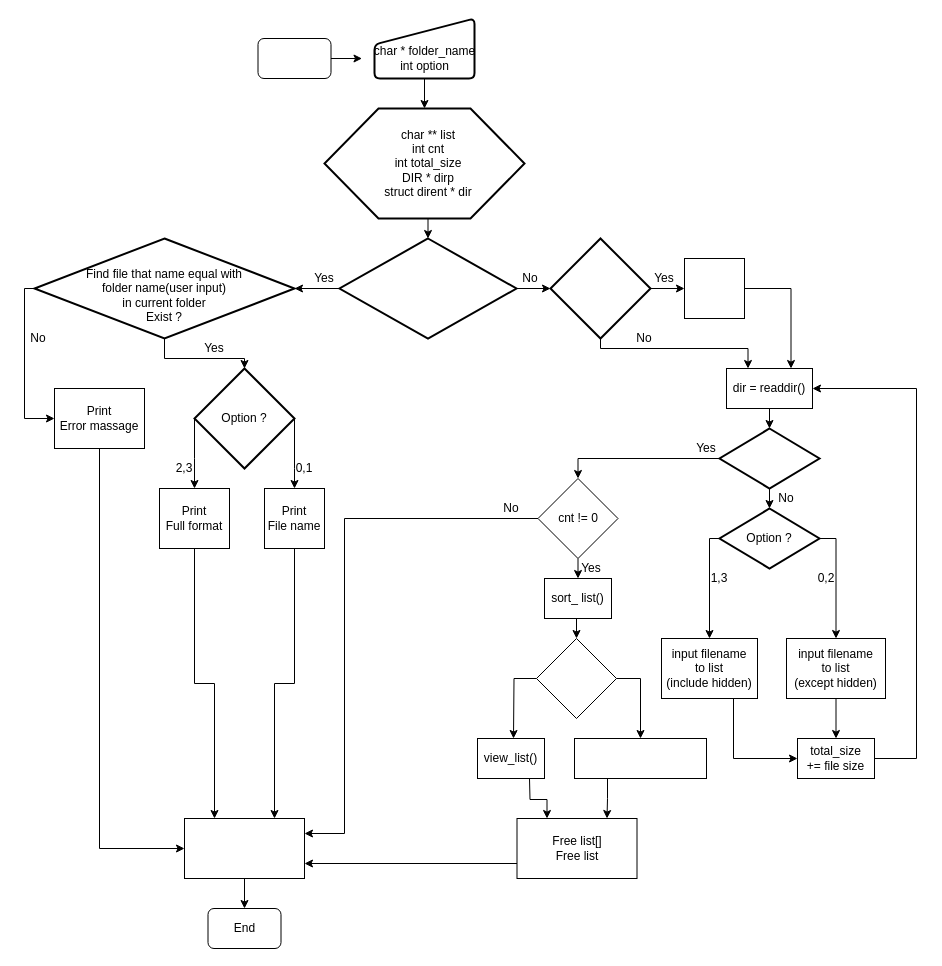
The diagram is 942 pixels wide and 966 high, and some of its shapes have lost their labels. Here are the shapes that lost their labels. From the top down, the box of each, then its label:
(257, 38, 331, 78): Start
(338, 237, 517, 339): dirp == NULL ?
(549, 237, 651, 339): Option == 2 or 3
(684, 258, 744, 318): Print Dir Path
(718, 427, 820, 489): dir == NULL ?
(536, 638, 616, 718): Option == l or la
(574, 738, 706, 778): view_advanced_list()
(184, 818, 304, 878): Closedir()
